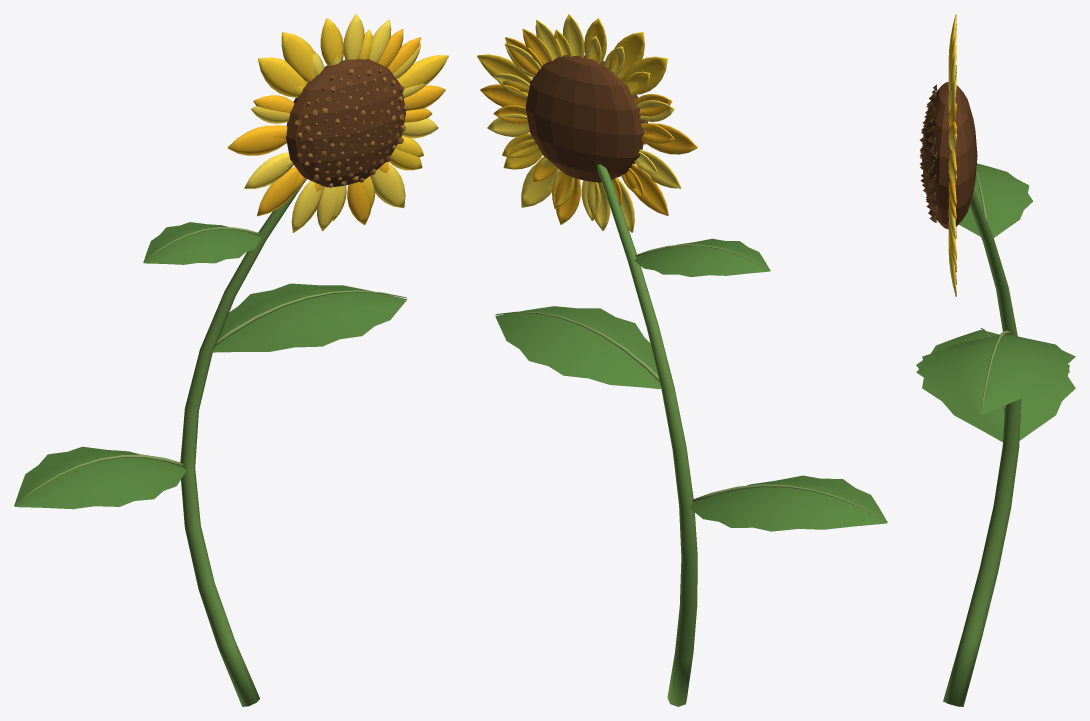
Rendered from sunflower-v2-bloom-2-0.glb.
The picture shows the model from 3 angles, left to right: view 1: azimuth 30°, elevation 25°; view 2: azimuth 150°, elevation 25°; view 3: azimuth 270°, elevation 25°; orthographic projection. The views are drawn at different scales.
Parts seen in each view (by area): view 1: Curved tapered stem; view 2: Curved tapered stem; view 3: Curved tapered stem.
Boxes of the visible parts, x1=… form: Curved tapered stem: x1=14, y1=14, x2=448, y2=706; Curved tapered stem: x1=477, y1=14, x2=887, y2=706; Curved tapered stem: x1=916, y1=14, x2=1075, y2=706.
Size of the model in its own units: 0.4301 by 0.6494 by 0.1317.
